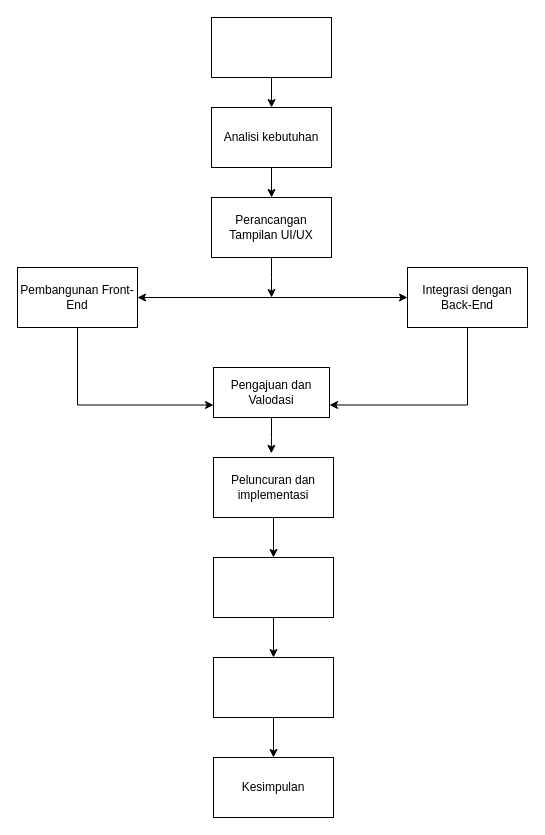
Image size: 545x835. Some labels were removed from this diagram. Here are the shapes that lost their labels. From the top down, the centre of each, then its label:
point (271, 47): Pendahuluan
point (273, 587): Pemeliharaan dan Perbaikan
point (273, 687): Evaluasi dan Umpan balik
